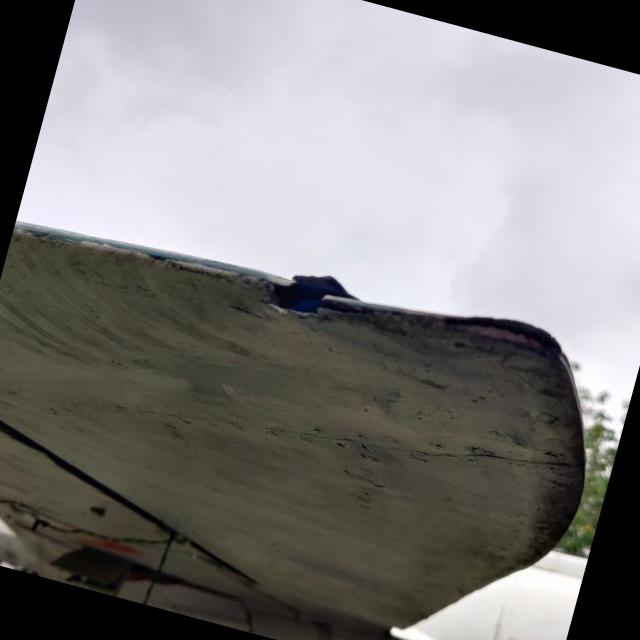Crack: (272, 275, 355, 312)
